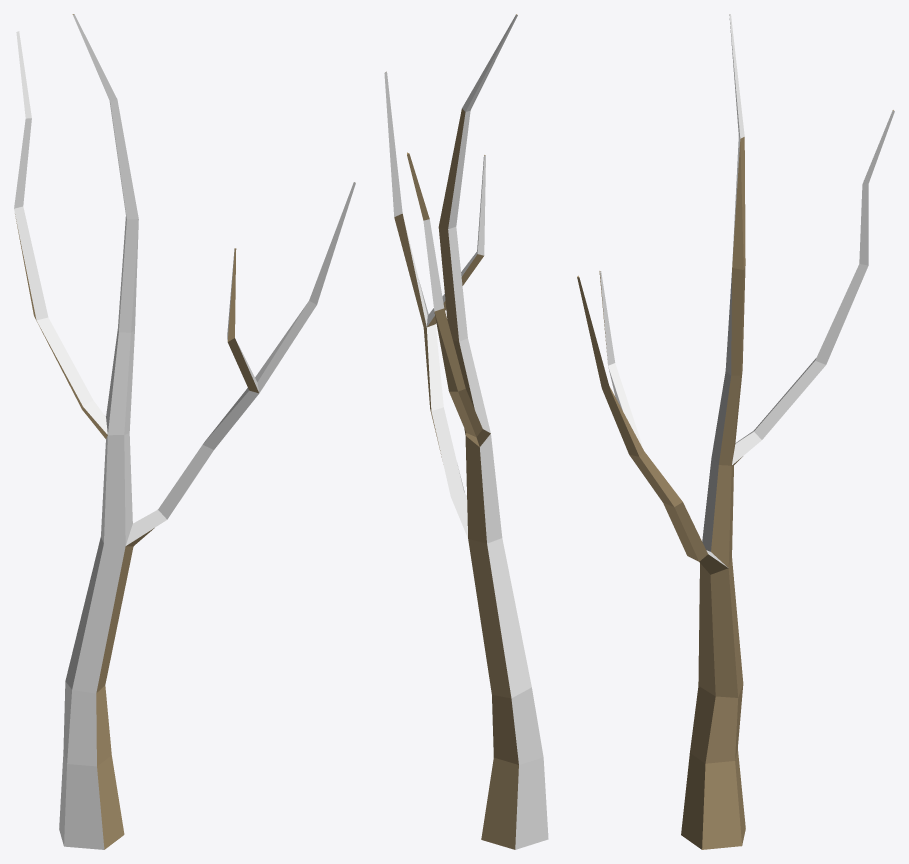
Rendered from Acacia_Tree_NoLeaves_l_Snow_06.fbx.
3 renders of one model, left to right at view 1: azimuth 30°, elevation 25°; view 2: azimuth 150°, elevation 25°; view 3: azimuth 270°, elevation 25°, orthographic.
Visible parts, largest first — view 1: Acacia_Tree_NoLeaves_l_Snow_06; view 2: Acacia_Tree_NoLeaves_l_Snow_06; view 3: Acacia_Tree_NoLeaves_l_Snow_06.
Boxes of the visible parts, box(x1,y1,x2,y2) form: Acacia_Tree_NoLeaves_l_Snow_06: box(14, 14, 355, 849); Acacia_Tree_NoLeaves_l_Snow_06: box(384, 14, 548, 849); Acacia_Tree_NoLeaves_l_Snow_06: box(577, 14, 894, 849).
Size of the model in its own units: 291 by 1005 by 354.
